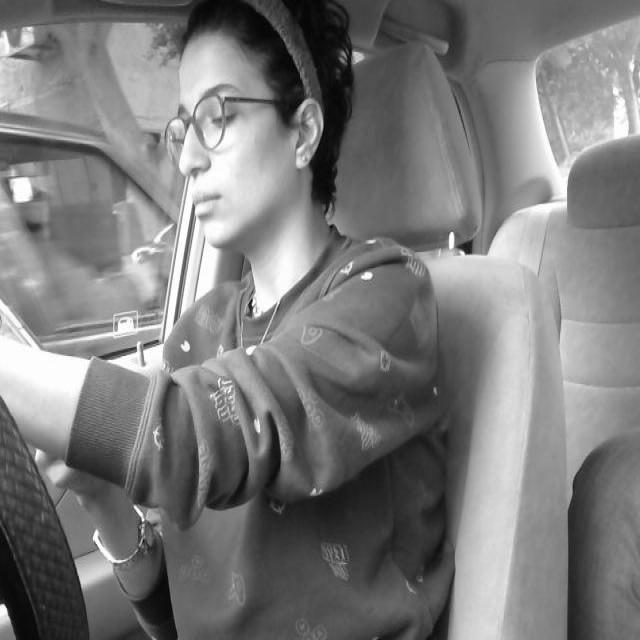mobile use: (0, 287, 66, 403)
